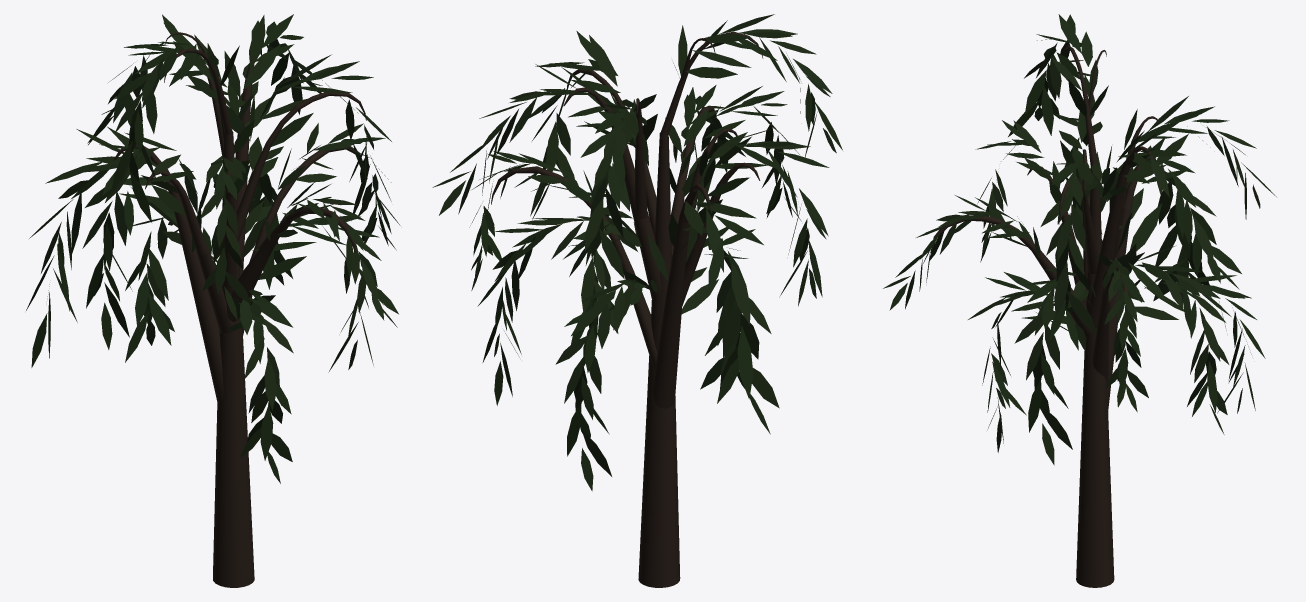
The model's file is Anna's Tree 1.fbx.
3 views of the same model, side by side, from view 1: azimuth 30°, elevation 25°; view 2: azimuth 150°, elevation 25°; view 3: azimuth 270°, elevation 25° (orthographic). The views are drawn at different scales.
Parts seen in each view (by area): view 1: pCylinder1, leaves9, leaves13, leaves3, leaves5, leaves11, leaves2, leaves8, leaves10, leaves1, pCylinder5, leaves12 (+10 smaller); view 2: pCylinder1, leaves5, leaves8, leaves12, leaves13, leaves4, leaves3, pCylinder5, leaves11, leaves10, leaves1, leaves2 (+10 smaller); view 3: pCylinder1, leaves10, leaves4, leaves11, leaves13, leaves7, leaves5, leaves, leaves12, leaves9, leaves1, leaves8 (+8 smaller).
Part boxes in pixels (left/top/right/bottom): pCylinder1: left=213, top=132, right=254, bottom=587; leaves9: left=229, top=289, right=293, bottom=483; leaves13: left=111, top=41, right=239, bottom=235; leaves3: left=82, top=132, right=210, bottom=349; leaves5: left=26, top=126, right=201, bottom=367; leaves11: left=219, top=14, right=322, bottom=153; leaves2: left=200, top=155, right=251, bottom=320; leaves8: left=125, top=203, right=217, bottom=362; leaves10: left=257, top=54, right=400, bottom=225; leaves1: left=265, top=181, right=398, bottom=327; pCylinder5: left=113, top=144, right=223, bottom=404; leaves12: left=87, top=14, right=254, bottom=144; pCylinder1: left=638, top=132, right=680, bottom=587; leaves5: left=647, top=199, right=779, bottom=434; leaves8: left=555, top=270, right=657, bottom=491; leaves12: left=580, top=94, right=657, bottom=291; leaves13: left=673, top=14, right=842, bottom=157; leaves4: left=477, top=216, right=641, bottom=405; leaves3: left=691, top=128, right=829, bottom=306; pCylinder5: left=653, top=184, right=711, bottom=408; leaves11: left=432, top=64, right=648, bottom=215; leaves10: left=530, top=31, right=636, bottom=219; leaves1: left=665, top=85, right=745, bottom=196; leaves2: left=692, top=86, right=801, bottom=221; pCylinder1: left=1076, top=171, right=1114, bottom=587; leaves10: left=1040, top=159, right=1109, bottom=350; leaves4: left=1102, top=245, right=1229, bottom=434; leaves11: left=1093, top=130, right=1241, bottom=289; leaves13: left=1008, top=14, right=1108, bottom=136; leaves7: left=1014, top=269, right=1095, bottom=465; leaves5: left=1102, top=134, right=1211, bottom=303; leaves: left=1099, top=254, right=1148, bottom=412; leaves12: left=1102, top=96, right=1276, bottom=219; leaves9: left=968, top=272, right=1086, bottom=452; leaves1: left=883, top=195, right=1040, bottom=310; leaves8: left=1109, top=258, right=1265, bottom=413.
Bounding box in the file's own units: 138 × 223 × 158.
